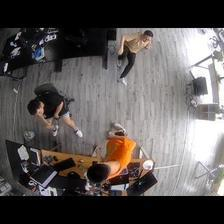fall: (116, 29, 154, 84)
normal: (28, 87, 81, 141), (89, 121, 136, 181)
